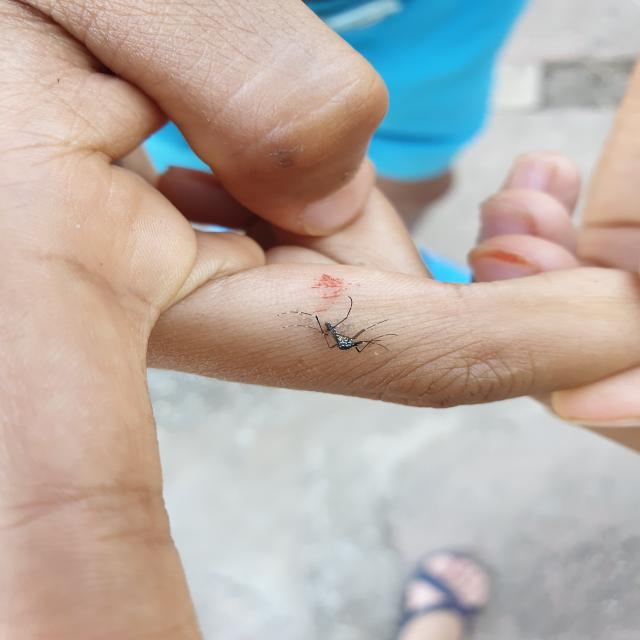albopictus: (276, 294, 400, 361)
